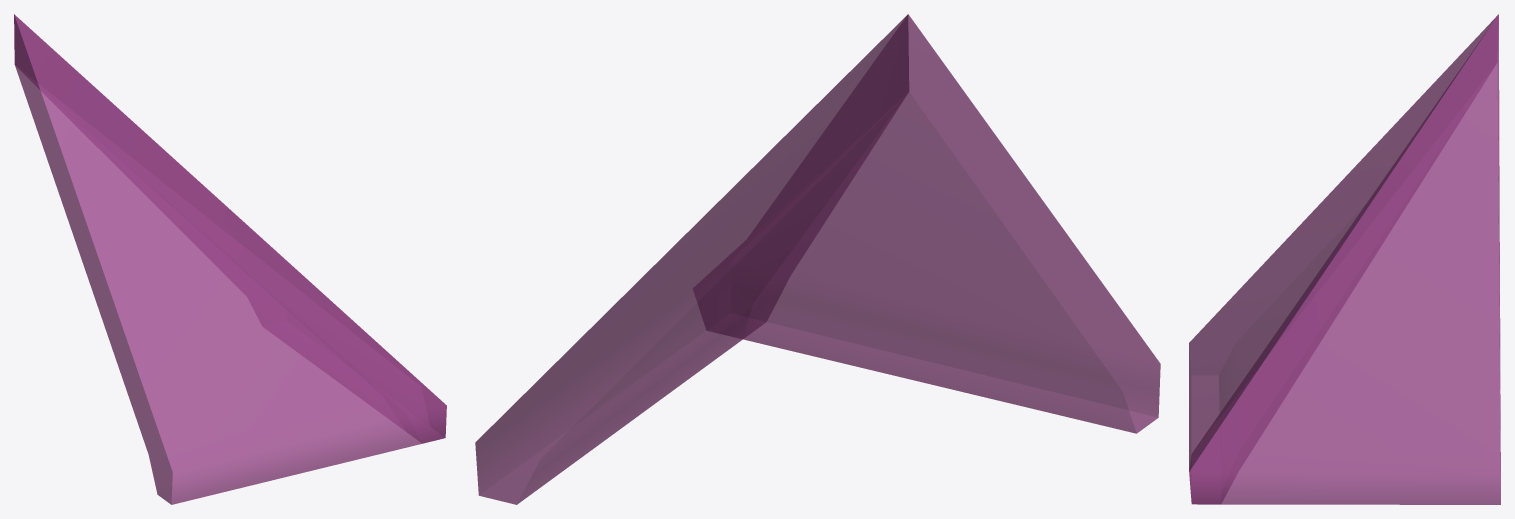
Rendered from SM_Bld_Base_Roof_Corner_Out_01_Collision.fbx.
3 renders of one model, left to right at view 1: azimuth 30°, elevation 25°; view 2: azimuth 150°, elevation 25°; view 3: azimuth 270°, elevation 25°, orthographic. The views are drawn at different scales.
Visible parts, largest first — view 1: SM_Bld_Base_Roof_Corner_Out_01_Collision; view 2: SM_Bld_Base_Roof_Corner_Out_01_Collision; view 3: SM_Bld_Base_Roof_Corner_Out_01_Collision.
Boxes of the visible parts, bbox=[...] form: SM_Bld_Base_Roof_Corner_Out_01_Collision: bbox=[14, 14, 446, 504]; SM_Bld_Base_Roof_Corner_Out_01_Collision: bbox=[475, 14, 1160, 504]; SM_Bld_Base_Roof_Corner_Out_01_Collision: bbox=[1189, 14, 1500, 504].
Size of the model in its own units: 258 by 332 by 260.
